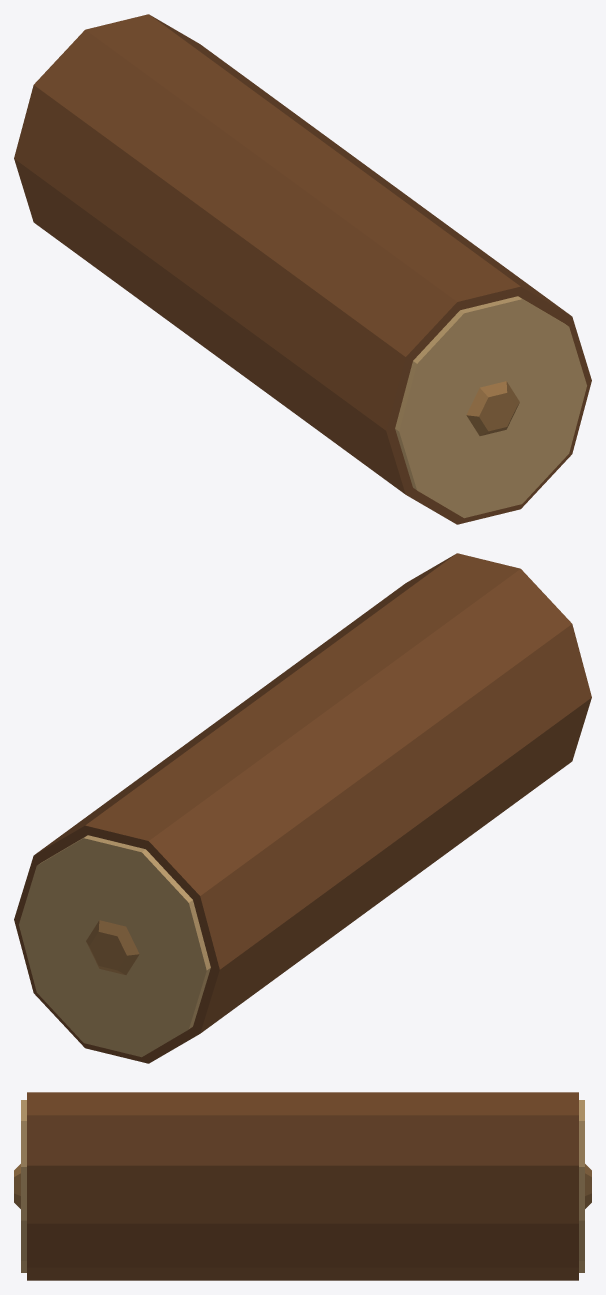
Rendered from pile-wood-1.gltf.
The picture shows the model from 3 angles, top to bottom: view 1: azimuth 30°, elevation 25°; view 2: azimuth 150°, elevation 25°; view 3: azimuth 270°, elevation 25°; orthographic projection. The views are drawn at different scales.
Parts seen in each view (by area): view 1: pile-wood-1; view 2: pile-wood-1; view 3: pile-wood-1.
Part boxes in pixels (left/top/right/bottom): pile-wood-1: left=14, top=14, right=591, bottom=524; pile-wood-1: left=14, top=553, right=591, bottom=1063; pile-wood-1: left=14, top=1092, right=591, bottom=1280.
Bounding box in the file's own units: 0.23 × 0.2378 × 0.754.
